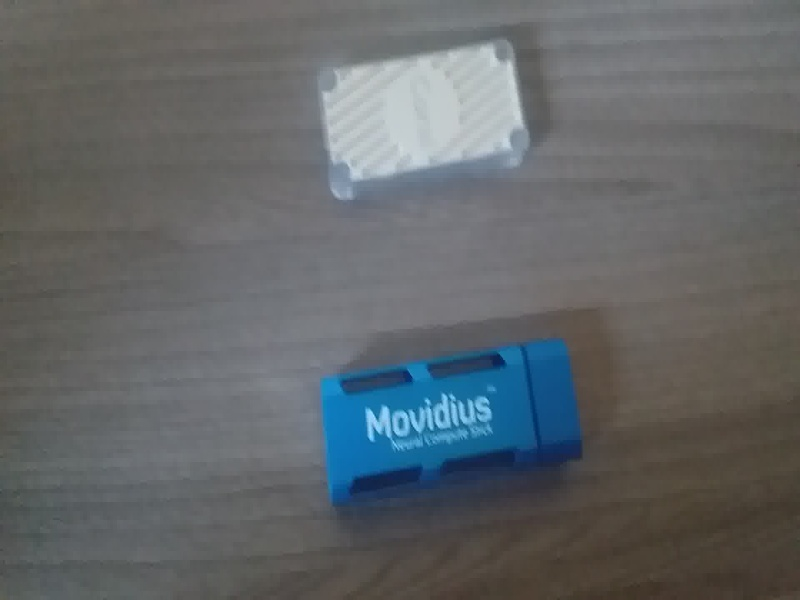coral: (311, 27, 544, 219)
movidius: (306, 335, 589, 504)
